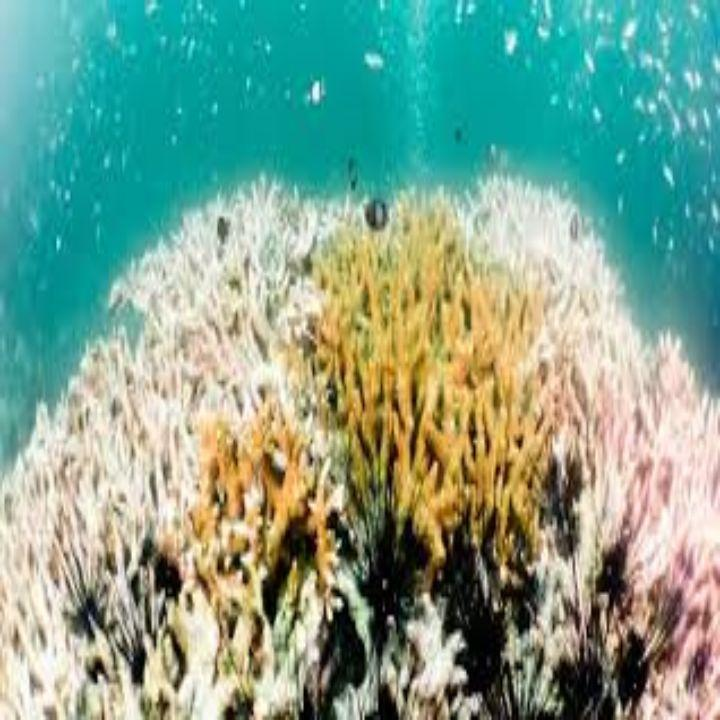Bleached disease: (86, 177, 285, 694), (507, 197, 715, 604)
